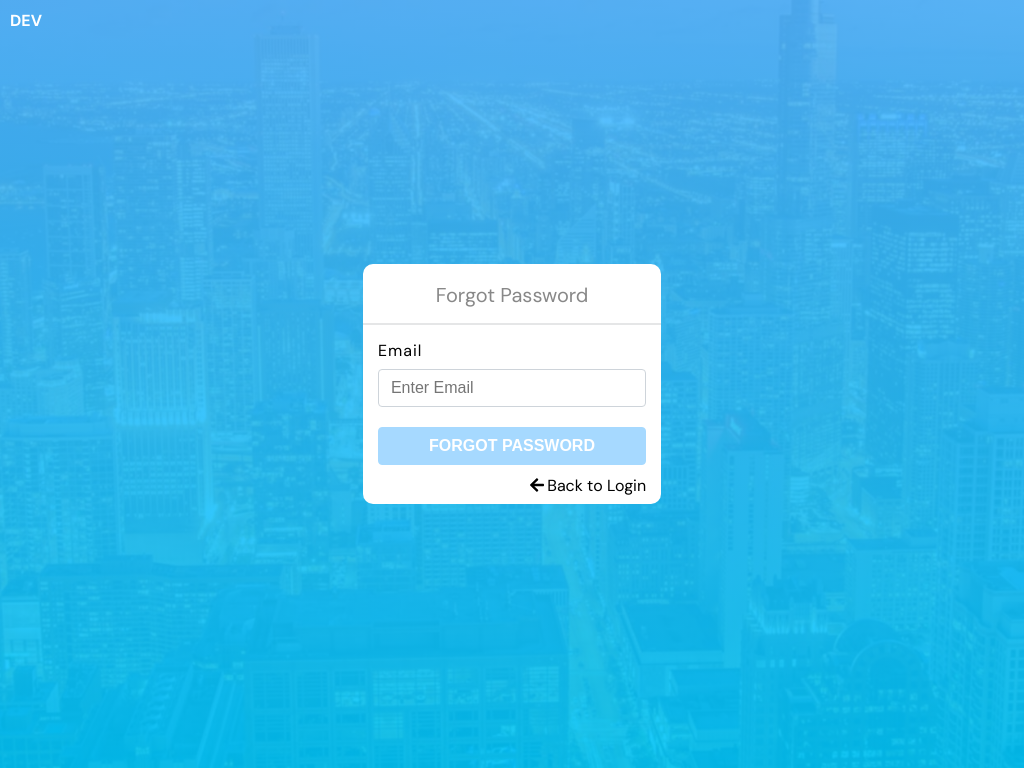
Scenario: Forget Password › Success › should display success alert
In the field labelled "Email": [512, 388] box [378,369,646,407], type "exist@test.com"
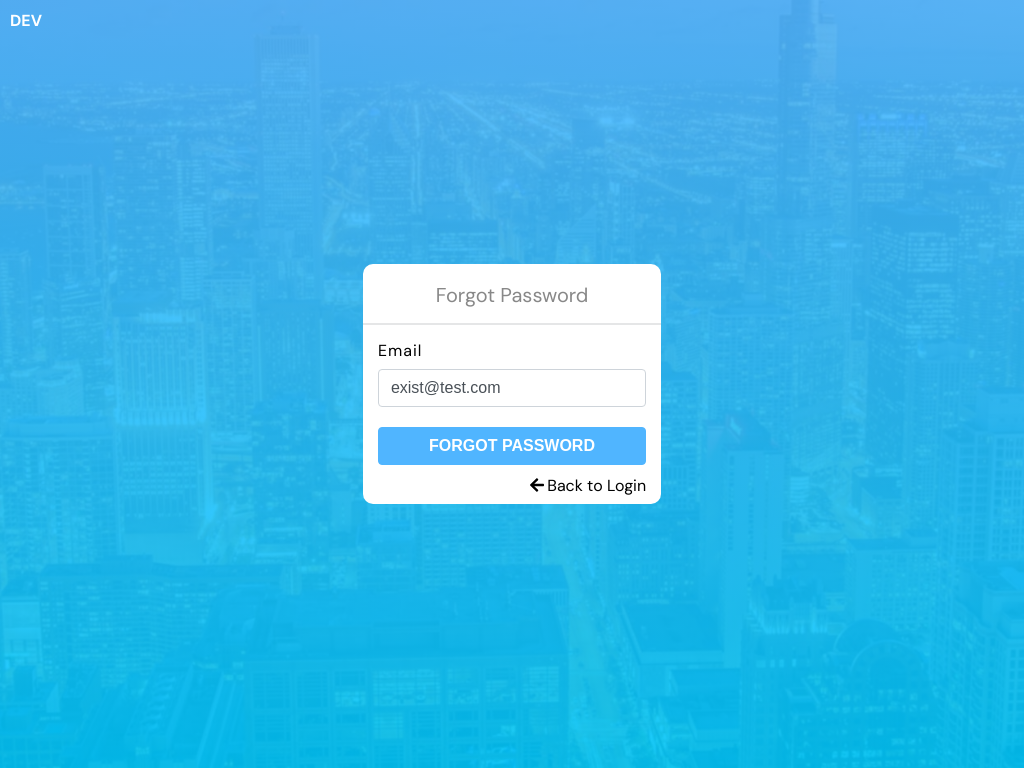
Click the button: [512, 446] box [378,427,646,465]
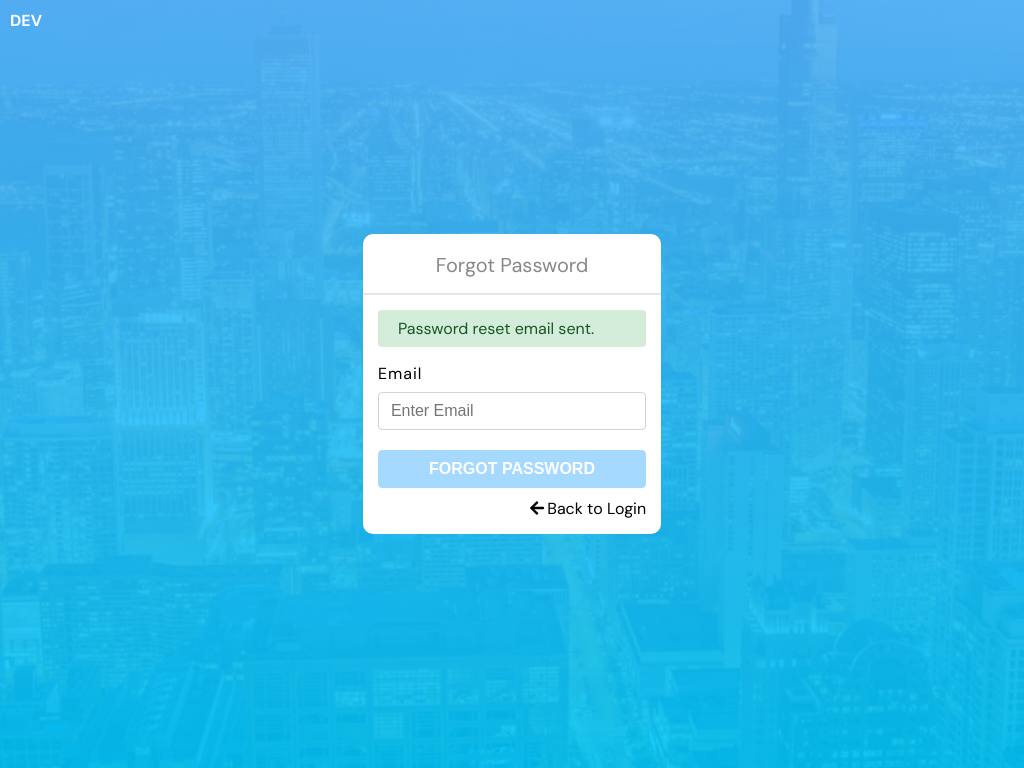
Expected: the message "Password reset email sent." is shown, [378,310,646,347]
Expected: the message reads "Password reset email sent.", [398,318,594,339]
